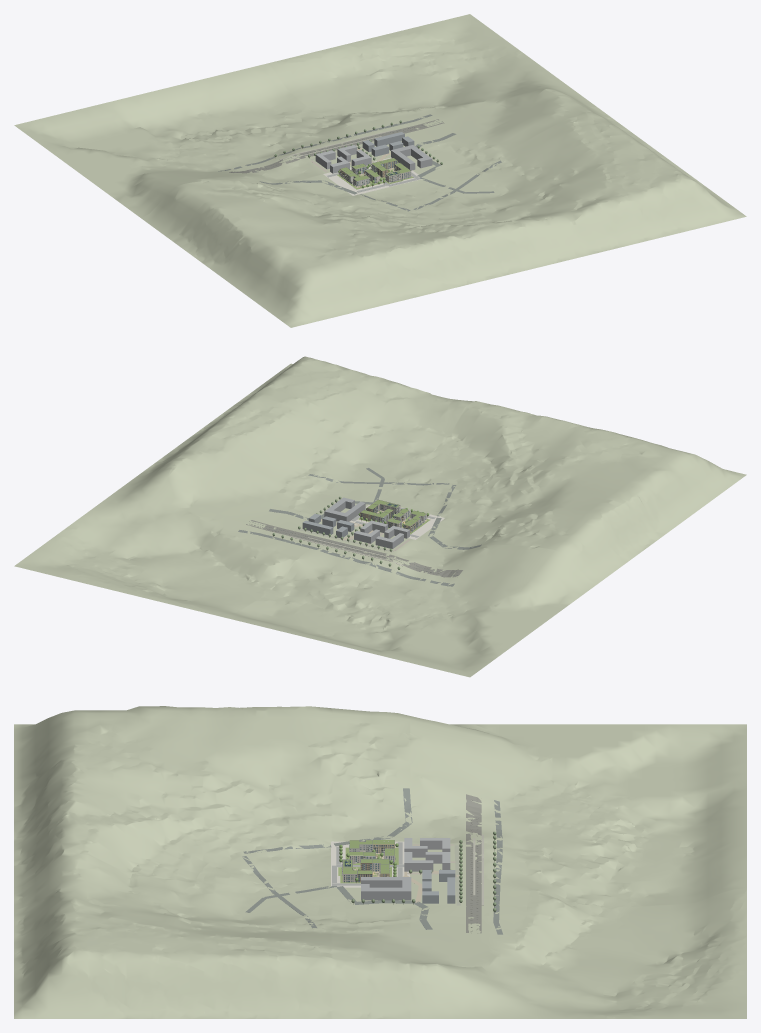
Rendered from bahnhofsareal.glb.
The picture shows the model from 3 angles, top to bottom: view 1: azimuth 30°, elevation 25°; view 2: azimuth 150°, elevation 25°; view 3: azimuth 270°, elevation 25°; orthographic projection. The views are drawn at different scales.
Parts seen in each view (by area): view 1: Umgebungsflächen · interpoliert, Straßen und Freiflächen, Geplante Baufelder / BF1, Bahngleise, Geplante Baufelder / BF2, Geplante Baufelder / BF5, Umfeld / Freianlagen; view 2: Umgebungsflächen · interpoliert, Straßen und Freiflächen, Bahngleise, Geplante Baufelder / BF1, Geplante Baufelder / BF2, Geplante Baufelder / BF5; view 3: Umgebungsflächen · interpoliert, Straßen und Freiflächen, Bahngleise, Geplante Baufelder / BF1, Geplante Baufelder / BF5, Geplante Baufelder / BF2, Umgebungsgrün, Umfeld / Freianlagen.
Part boxes in pixels (x1,y1,x2,y2): Umgebungsflächen · interpoliert: [14, 14, 746, 327]; Straßen und Freiflächen: [218, 114, 501, 211]; Geplante Baufelder / BF1: [315, 145, 371, 173]; Bahngleise: [229, 119, 444, 173]; Geplante Baufelder / BF2: [362, 132, 414, 156]; Geplante Baufelder / BF5: [391, 145, 432, 170]; Umfeld / Freianlagen: [323, 157, 422, 195]; Umgebungsflächen · interpoliert: [14, 356, 746, 677]; Straßen und Freiflächen: [238, 468, 481, 586]; Bahngleise: [246, 520, 462, 577]; Geplante Baufelder / BF1: [354, 520, 409, 548]; Geplante Baufelder / BF2: [302, 513, 354, 538]; Geplante Baufelder / BF5: [324, 497, 365, 521]; Umgebungsflächen · interpoliert: [14, 706, 746, 1018]; Straßen und Freiflächen: [242, 788, 502, 934]; Bahngleise: [466, 794, 481, 933]; Geplante Baufelder / BF1: [404, 838, 450, 871]; Geplante Baufelder / BF5: [361, 877, 411, 900]; Geplante Baufelder / BF2: [422, 870, 455, 903]; Umgebungsgrün: [351, 831, 496, 911]; Umfeld / Freianlagen: [331, 841, 409, 887].
Size of what is drawn, in the model's own units: 970 by 98.1 by 1020.
